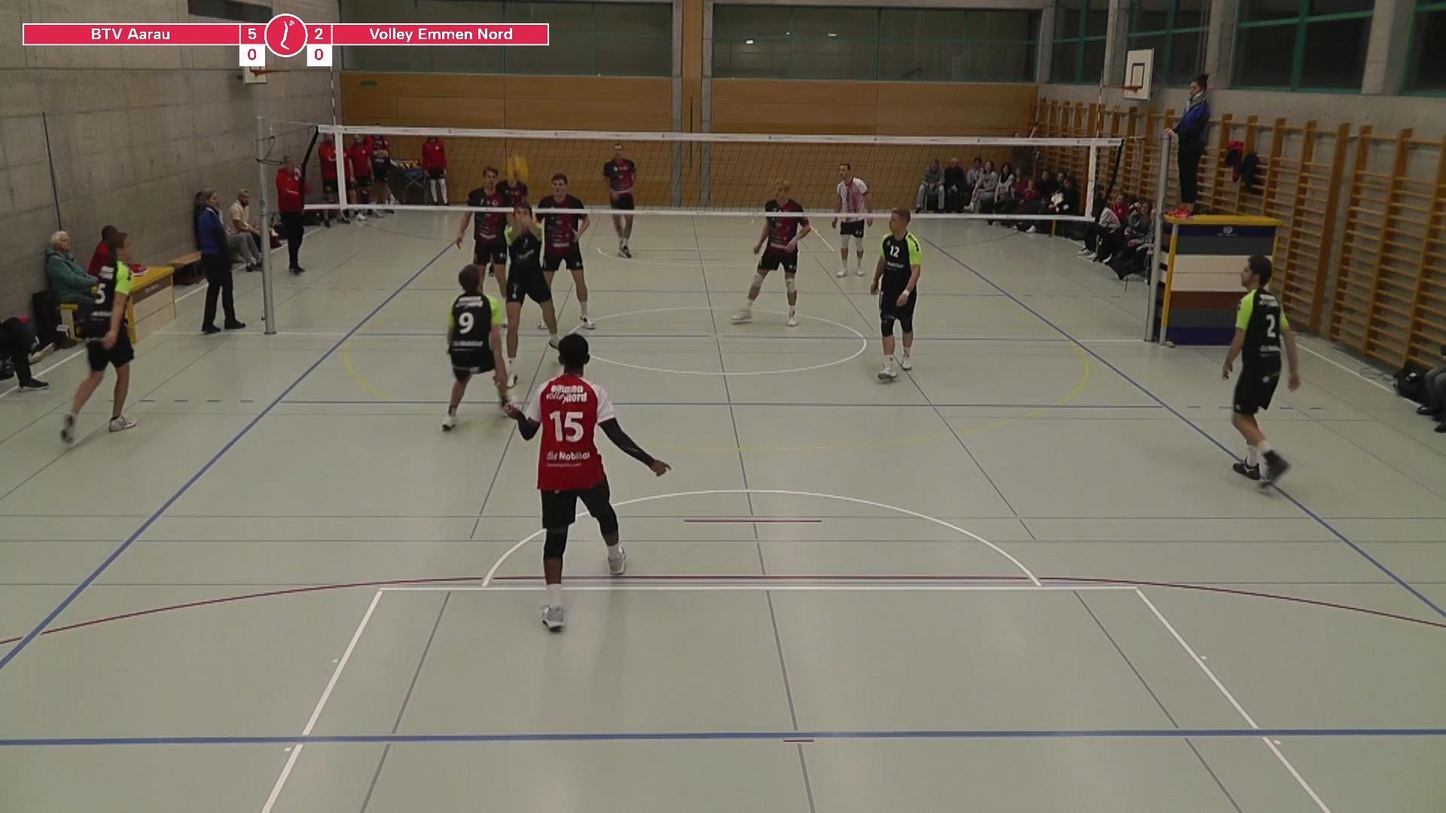Dig: (502, 152, 530, 188)
Player: (505, 333, 670, 631), (1222, 256, 1299, 486), (61, 231, 135, 445), (732, 180, 810, 326), (443, 264, 508, 430), (535, 173, 595, 329), (871, 208, 921, 381), (831, 163, 872, 277), (455, 211, 507, 294), (602, 144, 636, 257), (501, 159, 529, 205)
Set: (498, 198, 566, 388)
